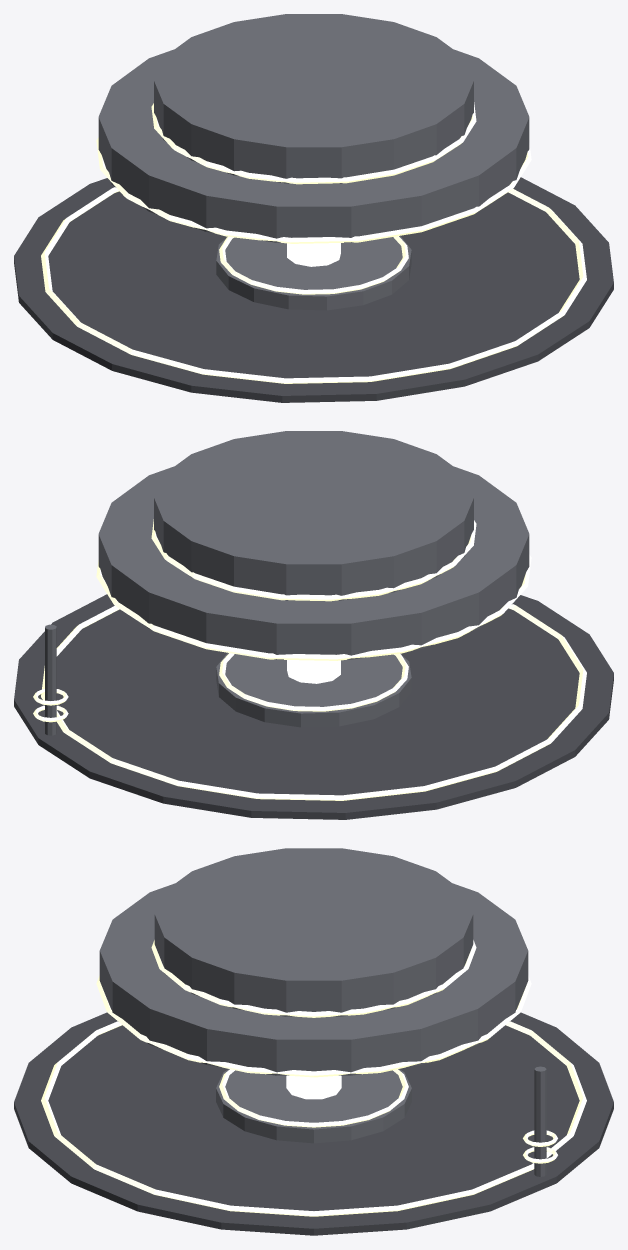
File: zone_low_2_t2.glb
3 views of the same model, one above another, from view 1: azimuth 30°, elevation 25°; view 2: azimuth 150°, elevation 25°; view 3: azimuth 270°, elevation 25° (orthographic).
Parts seen in each view (by area): view 1: zone_low_2_t2, detail; view 2: zone_low_2_t2, detail; view 3: zone_low_2_t2, detail.
Boxes of the visible parts, <box> form: zone_low_2_t2: <box>14,14,613,402</box>; detail: <box>41,187,586,383</box>; zone_low_2_t2: <box>14,431,613,819</box>; detail: <box>33,604,586,800</box>; zone_low_2_t2: <box>14,848,613,1235</box>; detail: <box>41,1021,586,1216</box>.
Bounding box in the file's own units: 19.6 × 7.01 × 19.6.
